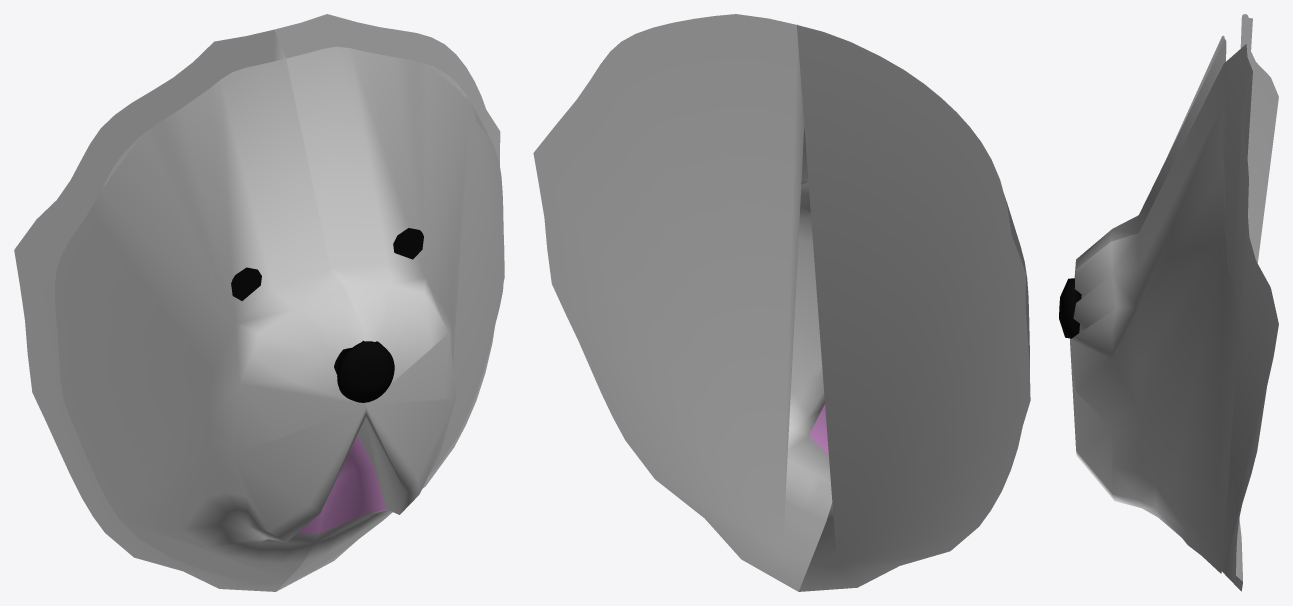
Rendered from snubSnout.obj.
The picture shows the model from 3 angles, left to right: view 1: azimuth 30°, elevation 25°; view 2: azimuth 150°, elevation 25°; view 3: azimuth 270°, elevation 25°; orthographic projection. The views are drawn at different scales.
Parts seen in each view (by area): view 1: Snub_Snout; view 2: Snub_Snout; view 3: Snub_Snout.
Boxes of the visible parts, <box> form: Snub_Snout: <box>14,14,504,591</box>; Snub_Snout: <box>533,14,1030,591</box>; Snub_Snout: <box>1059,14,1278,591</box>.
Bounding box in the file's own units: 0.4697 × 0.518 × 0.1921.
